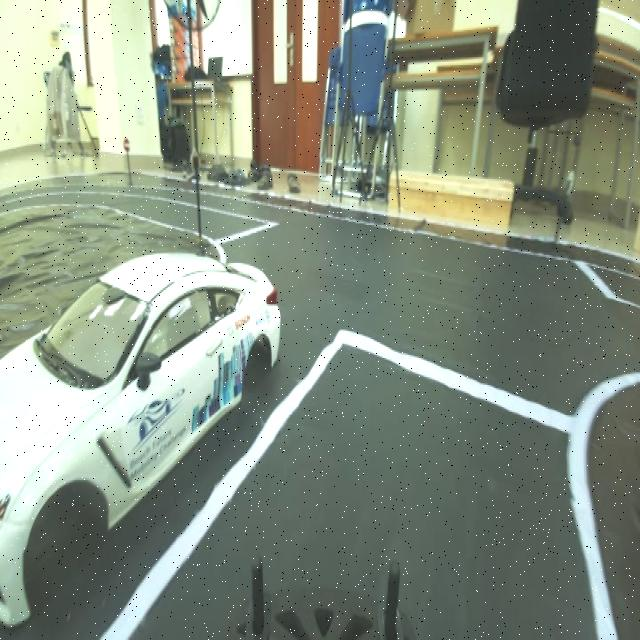car: (2, 216, 287, 603)
